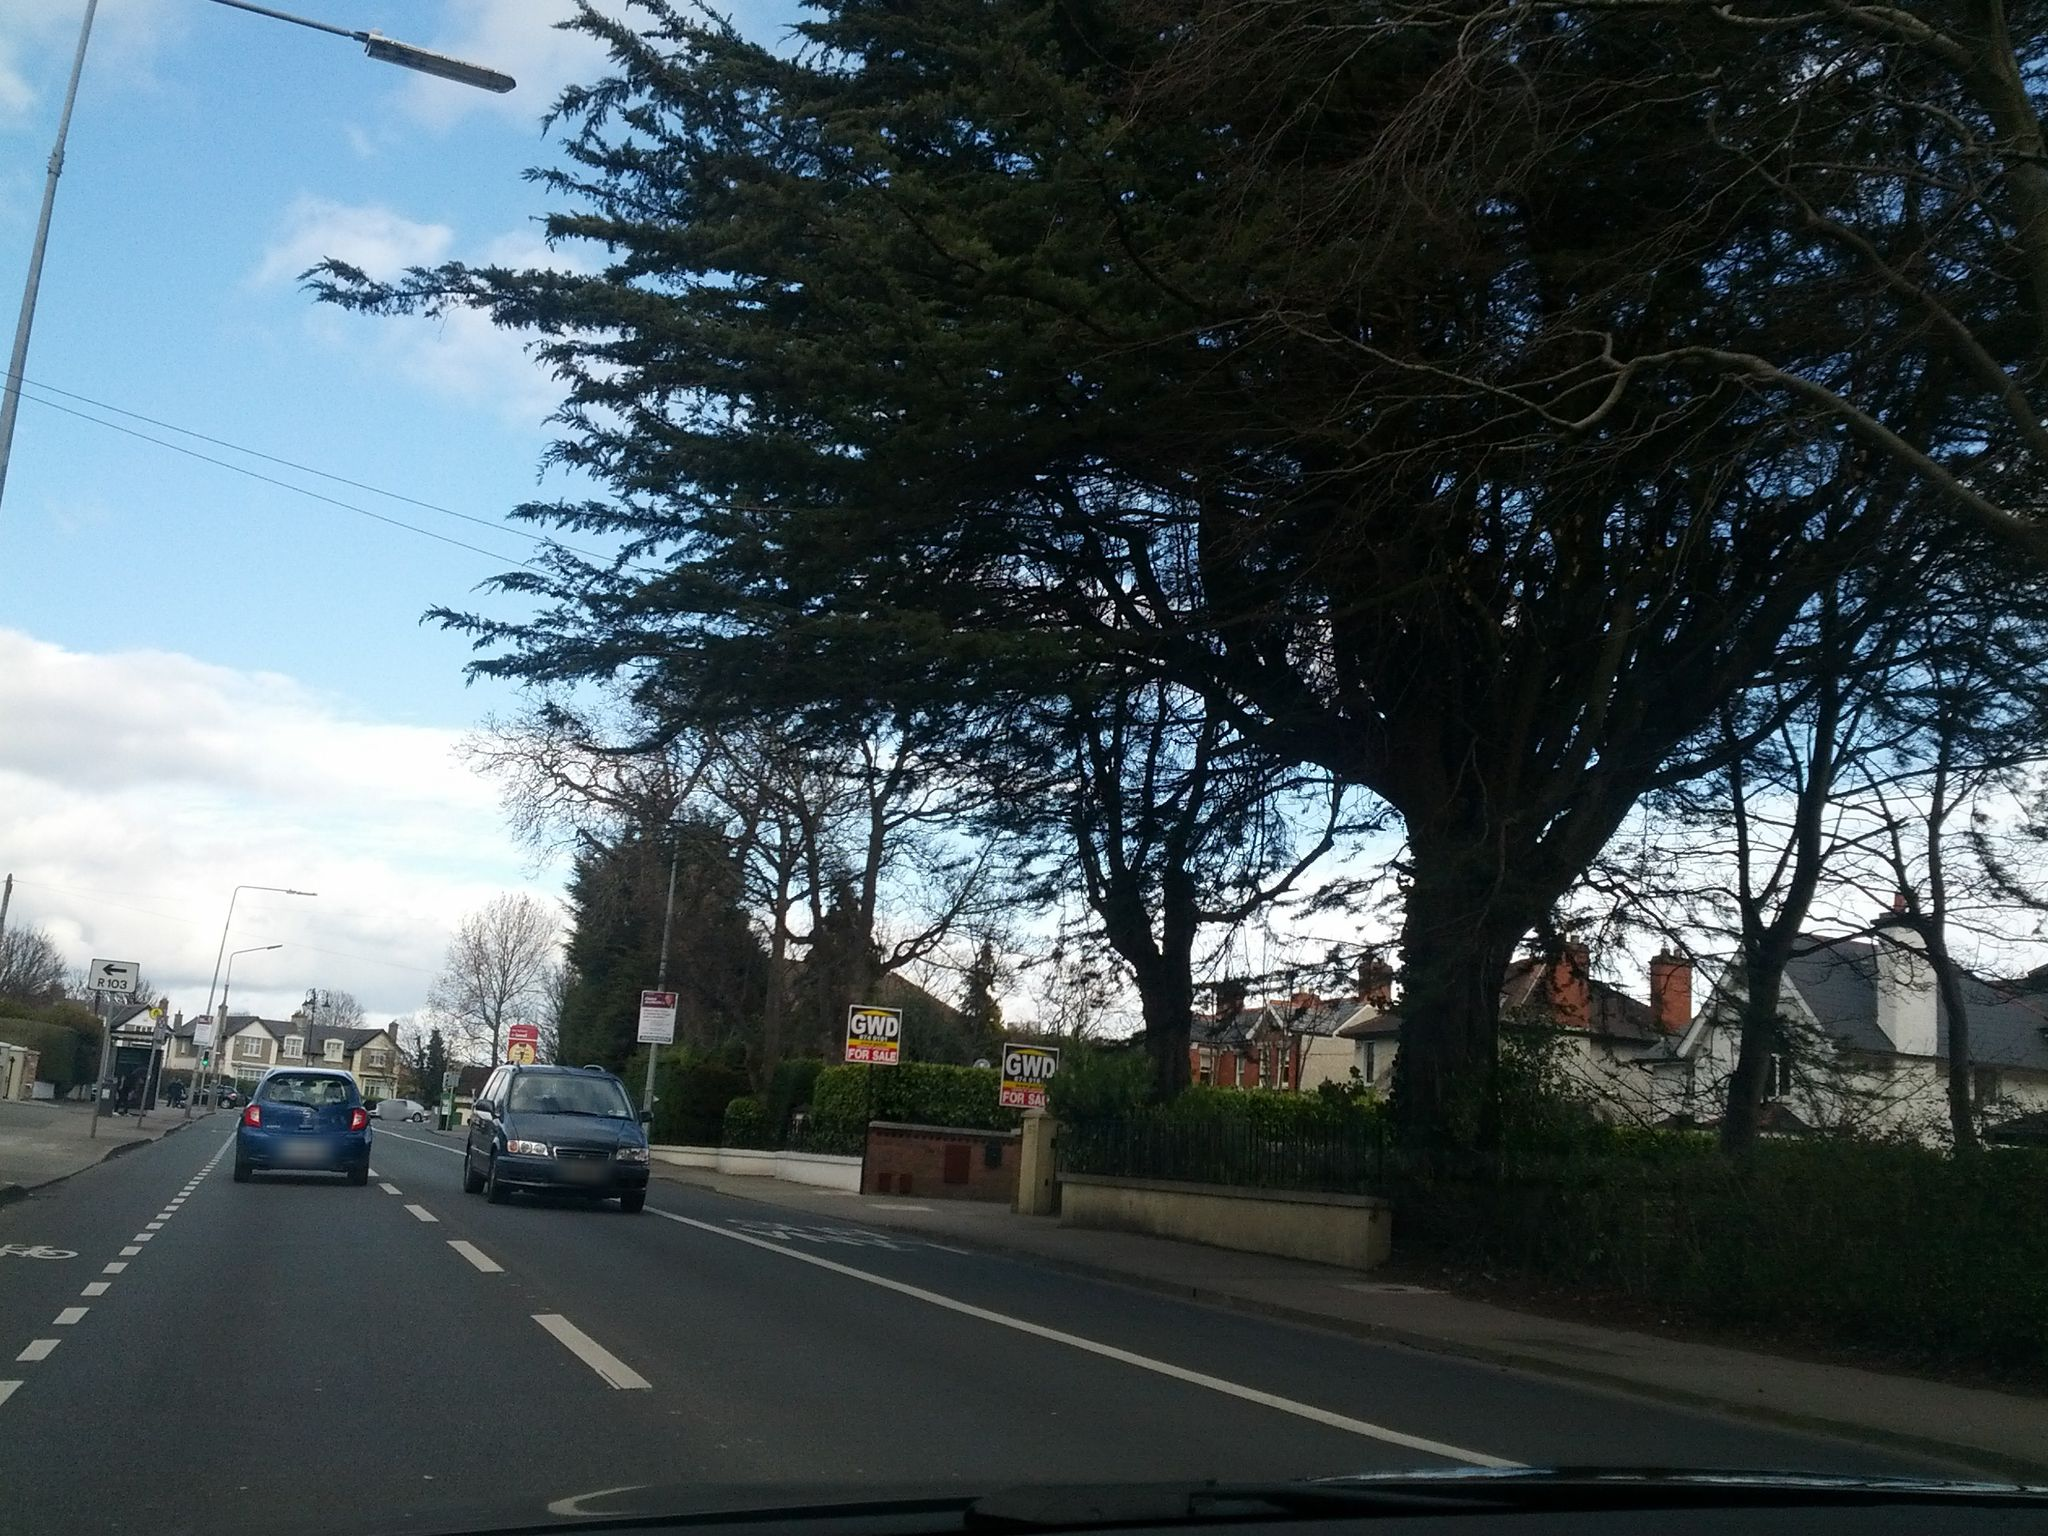property sign: (985, 1023, 1076, 1123), (835, 983, 906, 1066)
